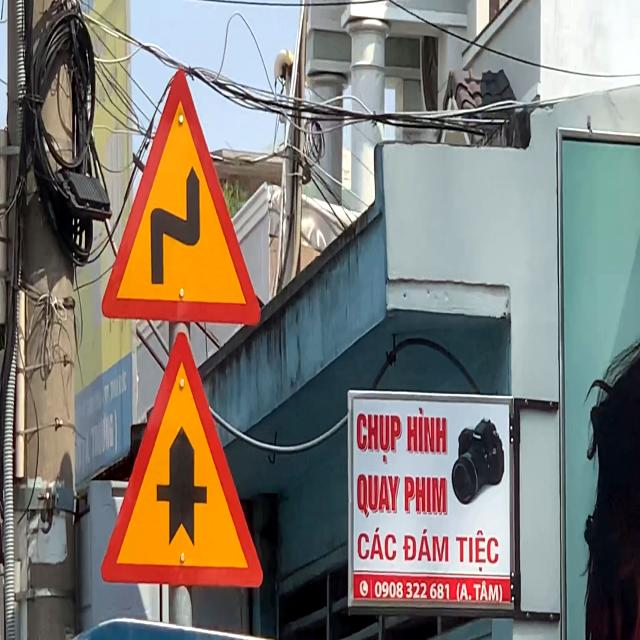W.202b: (97, 54, 276, 338)
W.207a: (93, 325, 274, 595)
